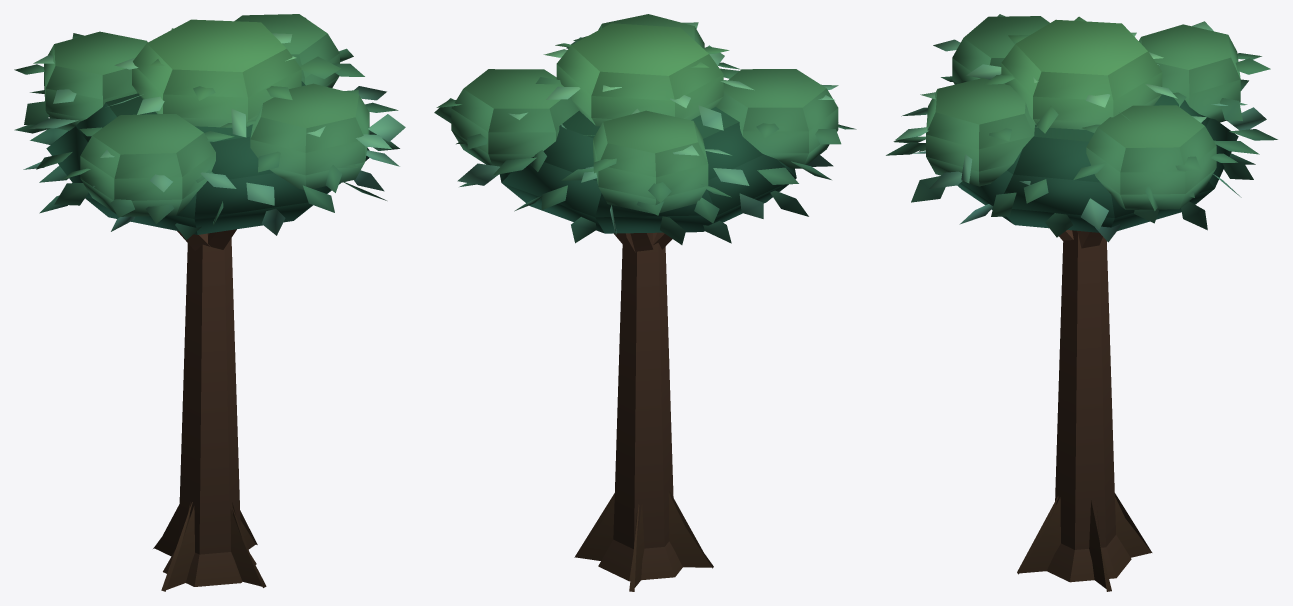
File: custom-jequitiba-rosa.glb
3 views of the same model, side by side, from view 1: azimuth 30°, elevation 25°; view 2: azimuth 150°, elevation 25°; view 3: azimuth 270°, elevation 25° (orthographic). The views are drawn at different scales.
Parts seen in each view (by area): view 1: jequitiba-rosa; view 2: jequitiba-rosa; view 3: jequitiba-rosa.
Part boxes in pixels (box(x1,y1,x2,y2)): jequitiba-rosa: box(14, 14, 405, 591); jequitiba-rosa: box(434, 14, 856, 591); jequitiba-rosa: box(886, 14, 1277, 591).
Bounding box in the file's own units: 12.99 × 18 × 12.4.
